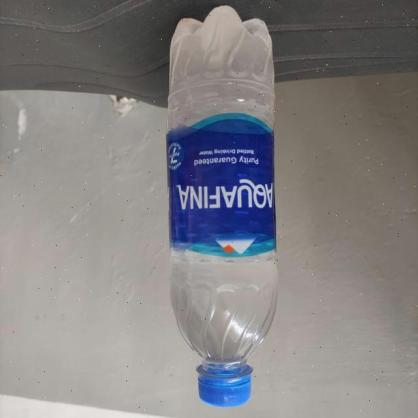bottle: (167, 2, 276, 409)
cap: (194, 358, 252, 404)
label: (162, 114, 274, 246)
